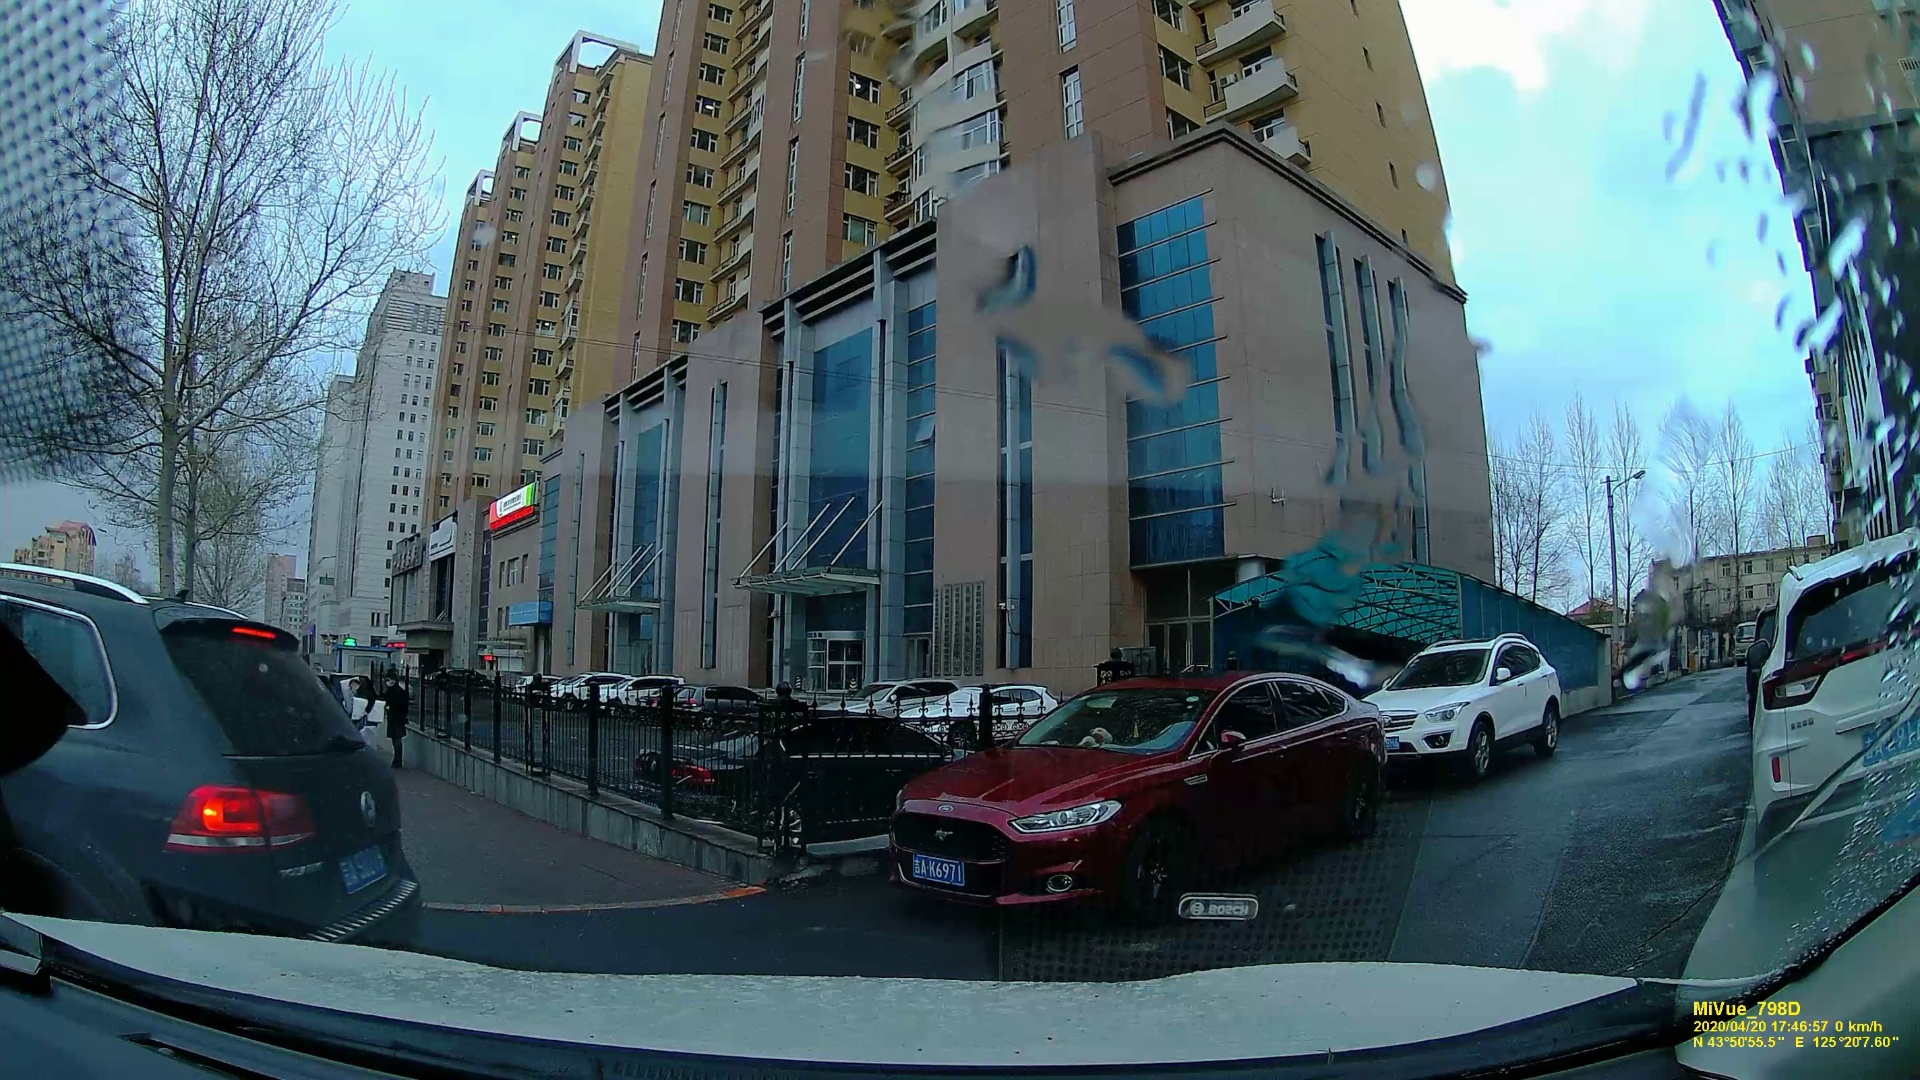vehicle: (0, 578, 414, 940), (876, 665, 1389, 924), (1370, 633, 1569, 774)
